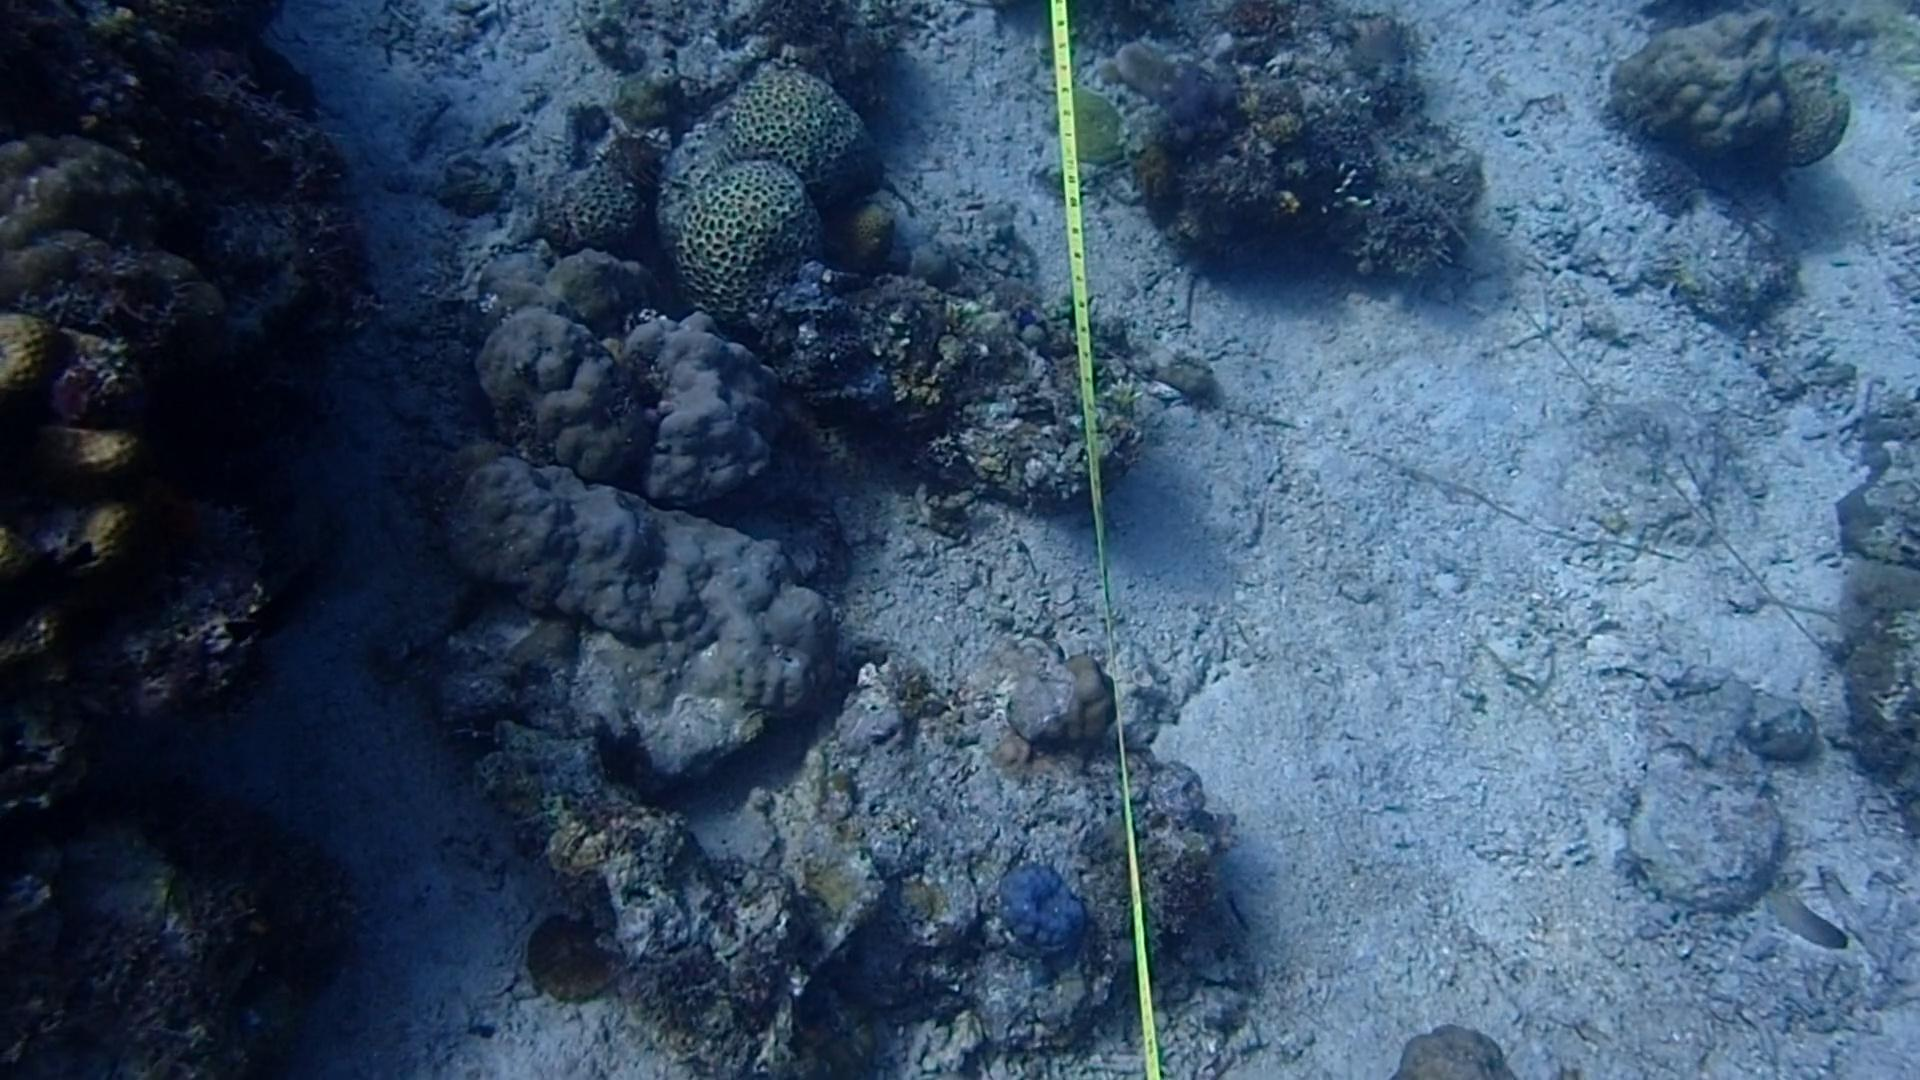Dark Fish: (0, 535, 100, 655), (451, 368, 517, 459), (8, 426, 55, 512)
Light Fish: (1753, 876, 1850, 951)
